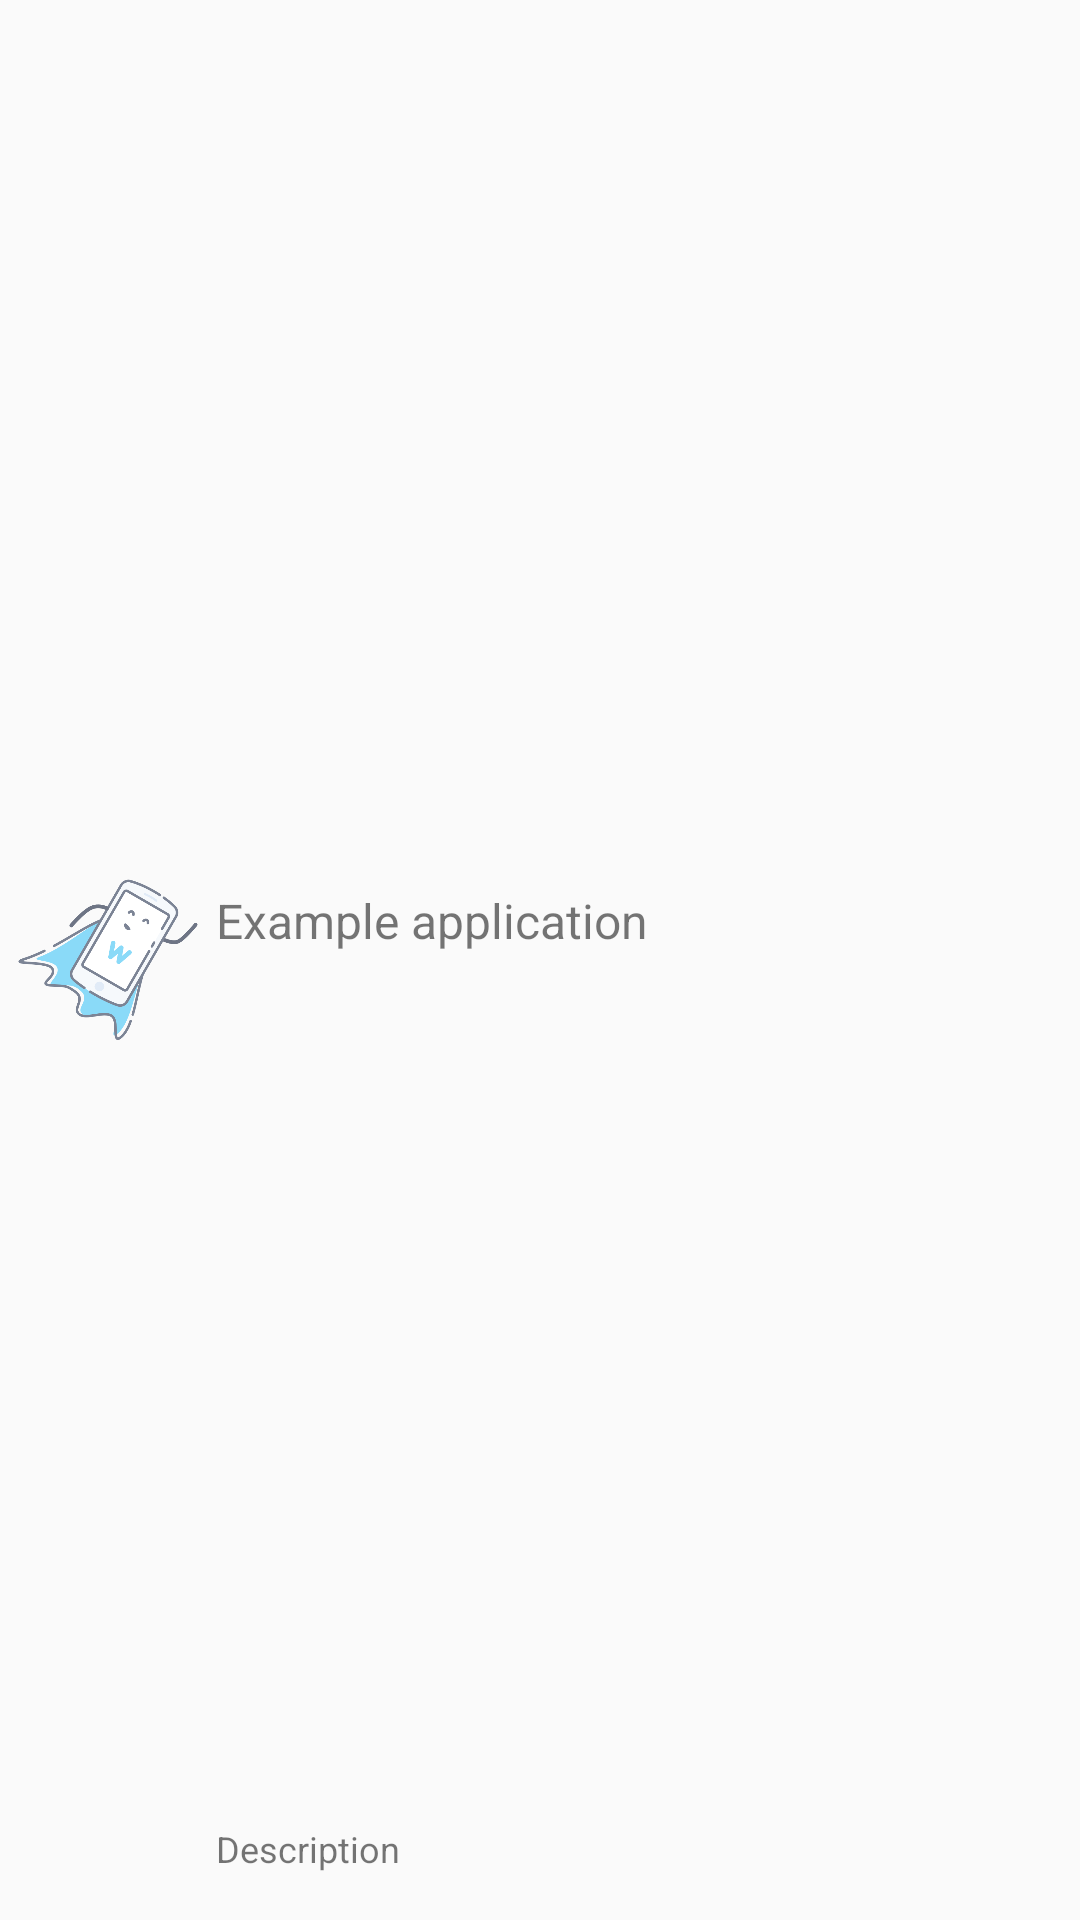

Screen size 1080x1920. Icon name, then its center in pixels as point (x, y):
flying phone: point (108, 959)
